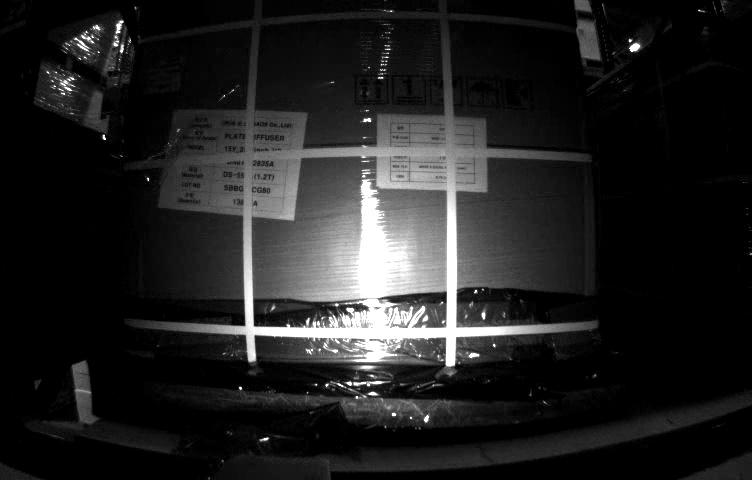True Barcode: (139, 56, 180, 91)
